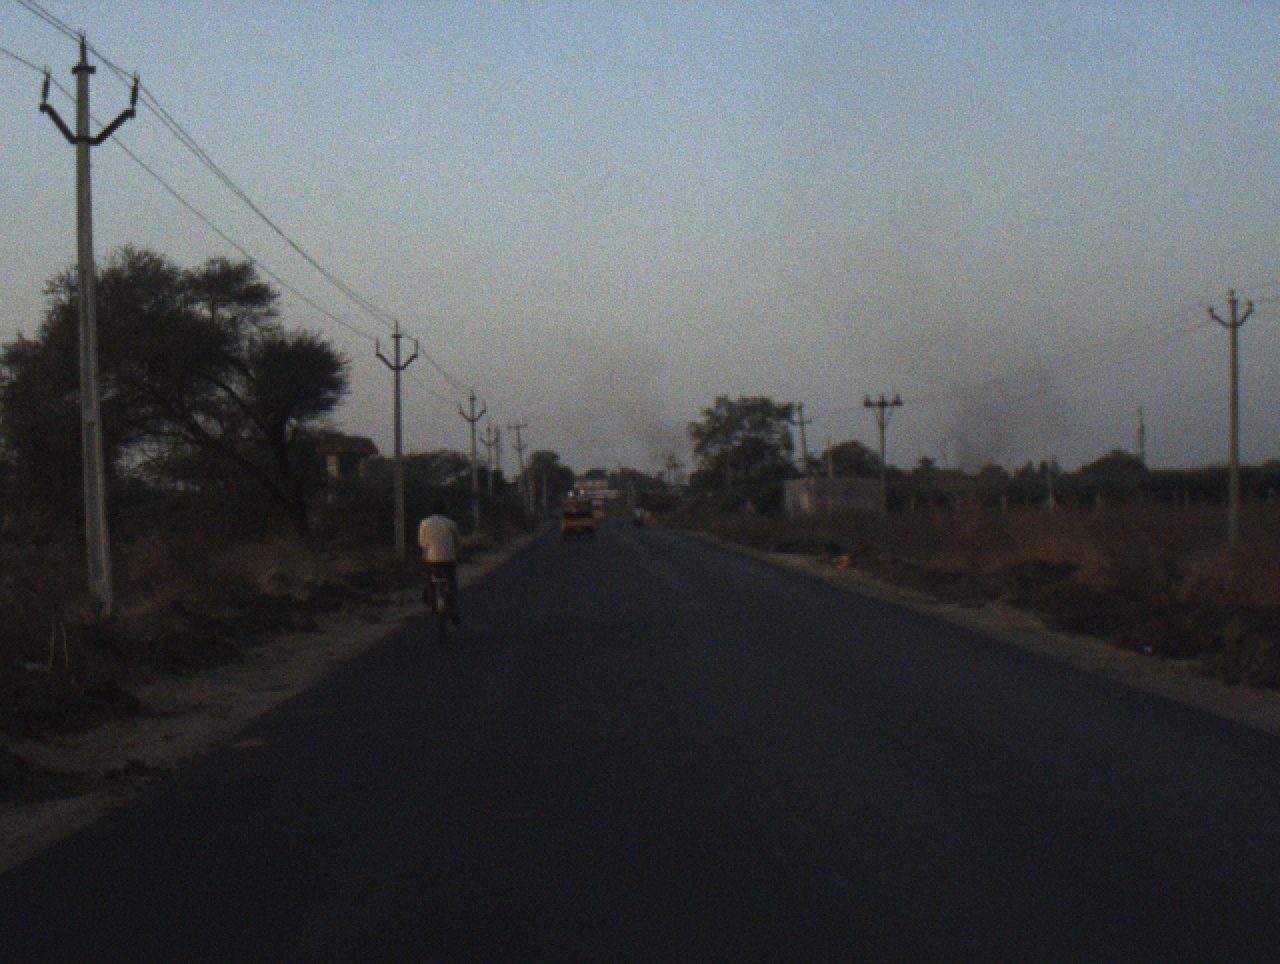autorickshaw: (557, 487, 598, 541)
bicycle: (427, 562, 459, 642)
bus: (587, 496, 609, 523)
motorcycle: (633, 516, 646, 529)
rider: (416, 501, 466, 629), (631, 504, 647, 525)
